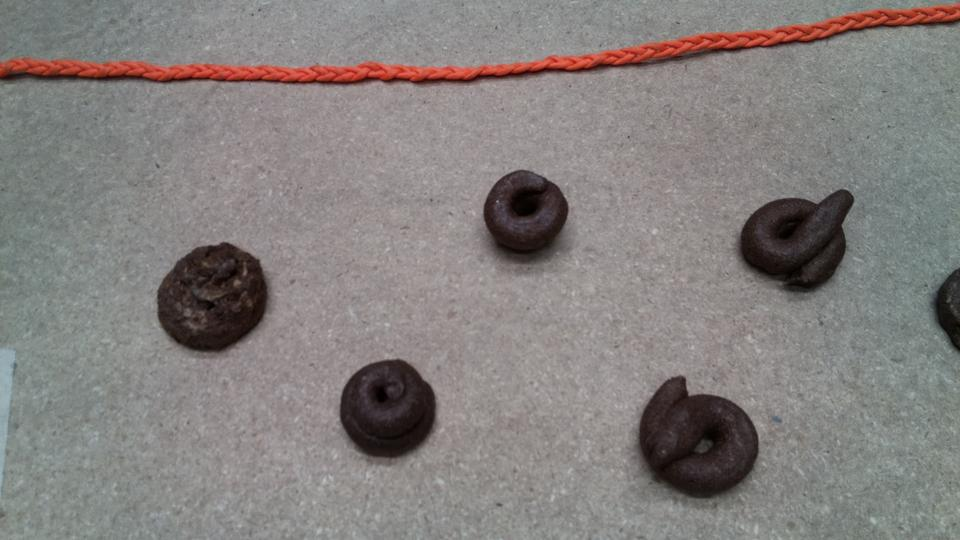poop: (118, 39, 723, 97), (632, 369, 779, 497), (147, 232, 279, 355), (739, 180, 858, 300), (329, 353, 452, 463), (471, 172, 582, 256), (1, 52, 123, 102)
rope: (2, 42, 702, 114), (615, 12, 960, 63)
